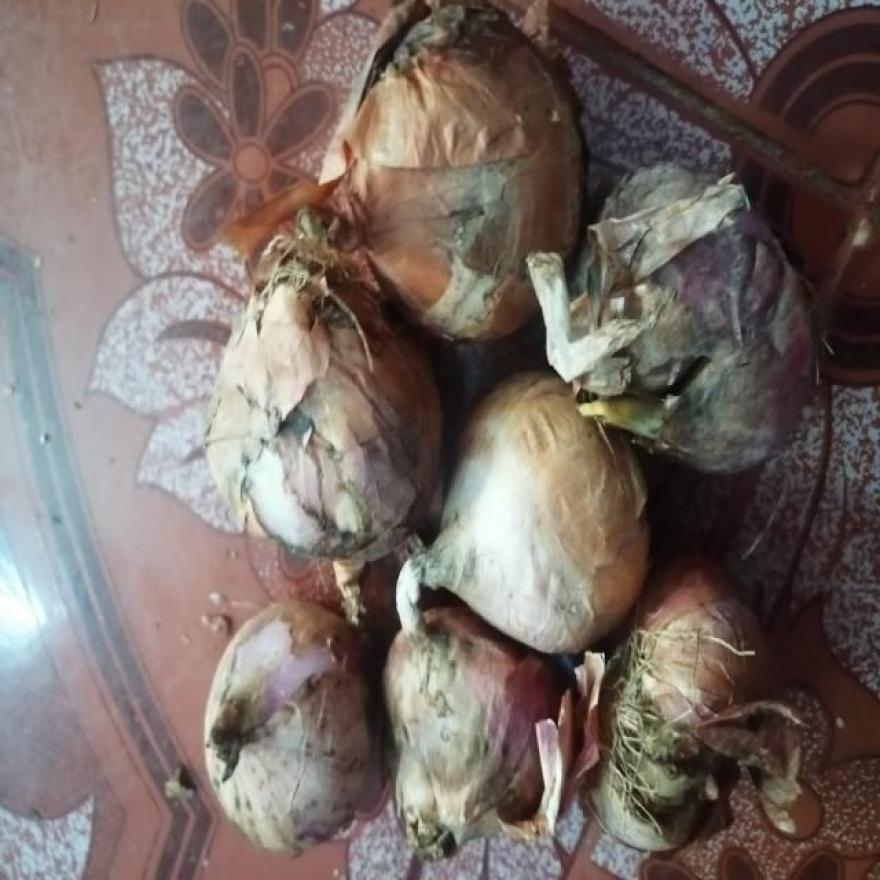Rotten: (625, 243, 714, 430), (233, 428, 353, 534), (622, 736, 730, 832), (373, 20, 511, 78)
